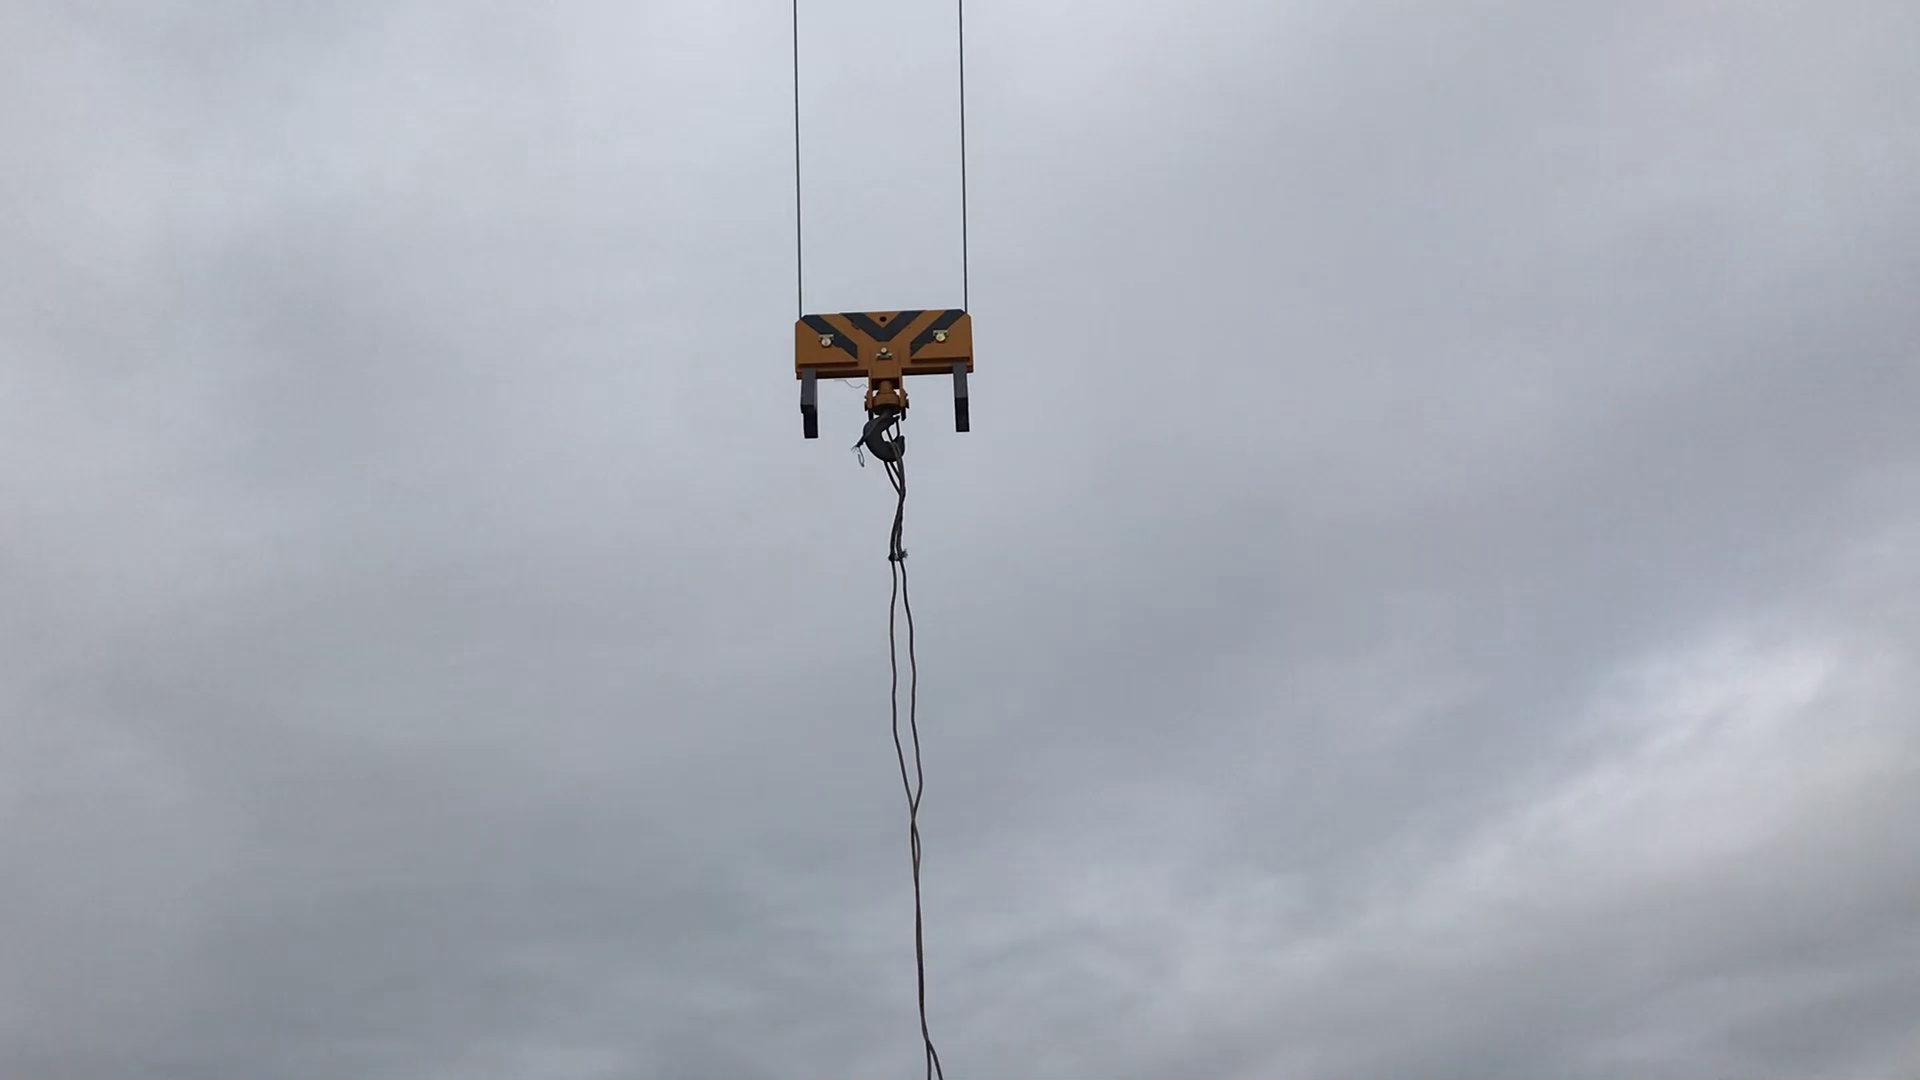hook: (771, 297, 998, 481)
